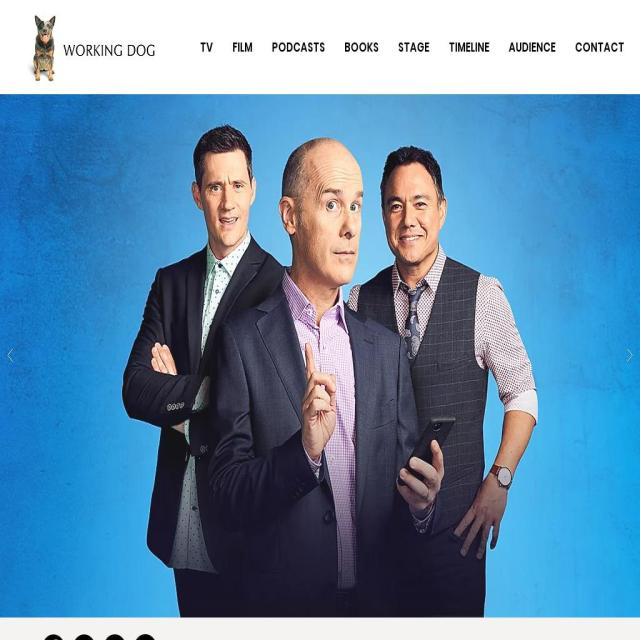button: (0, 94, 640, 618), (25, 15, 155, 82), (262, 33, 334, 61), (565, 33, 634, 61), (499, 33, 565, 61), (439, 33, 499, 61), (334, 33, 388, 61), (388, 33, 439, 61), (222, 33, 262, 61), (190, 33, 222, 61), (41, 634, 66, 640), (102, 634, 127, 640), (133, 634, 158, 640), (72, 634, 96, 640)
iframe: (259, 630, 437, 640), (481, 630, 586, 640)
image: (0, 94, 640, 618), (0, 617, 640, 640), (13, 617, 626, 640), (25, 15, 155, 82), (41, 634, 66, 640), (102, 634, 127, 640), (133, 634, 158, 640), (72, 634, 96, 640), (8, 349, 12, 363), (628, 349, 632, 363)
link: (266, 33, 331, 61), (568, 33, 630, 61), (502, 33, 562, 61), (442, 33, 496, 61), (338, 33, 385, 61), (392, 33, 436, 61), (226, 33, 259, 61), (194, 33, 219, 61)
